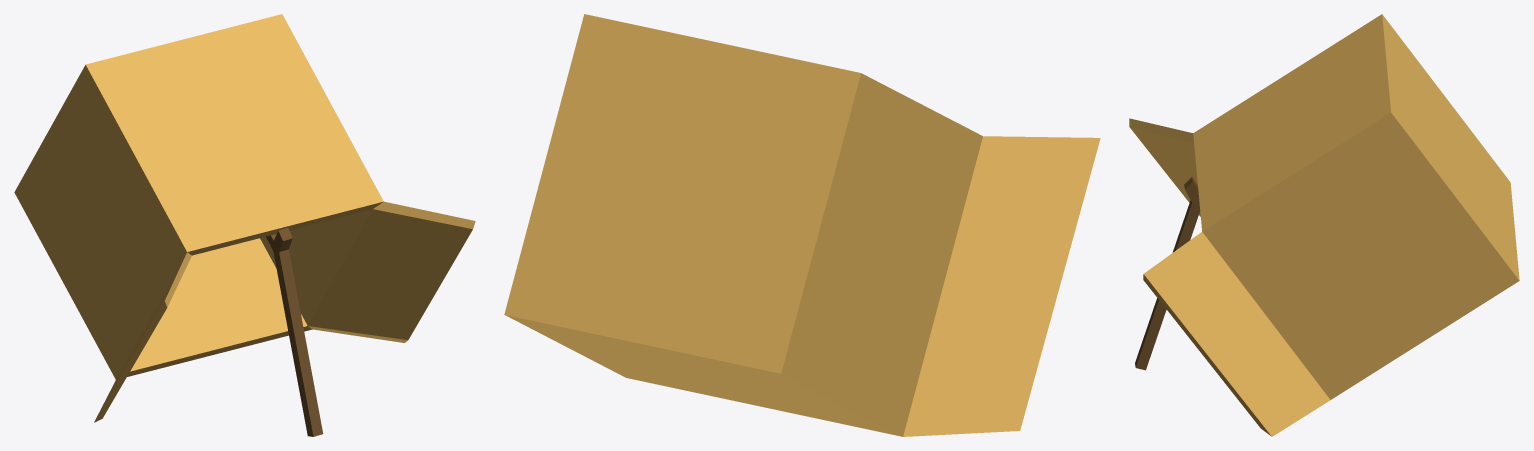
Rendered from trampa_Caja_palo.fbx.
3 views of the same model, side by side, from view 1: azimuth 30°, elevation 25°; view 2: azimuth 150°, elevation 25°; view 3: azimuth 270°, elevation 25° (orthographic). The views are drawn at different scales.
Visible parts, largest first — view 1: pCube6; view 2: pCube6; view 3: pCube6.
Boxes of the visible parts, left/top/right/bottom form: pCube6: left=14, top=14, right=475, bottom=436; pCube6: left=504, top=14, right=1100, bottom=436; pCube6: left=1129, top=14, right=1519, bottom=436.
Size of the model in its own units: 5.45 by 4.95 by 5.78.
